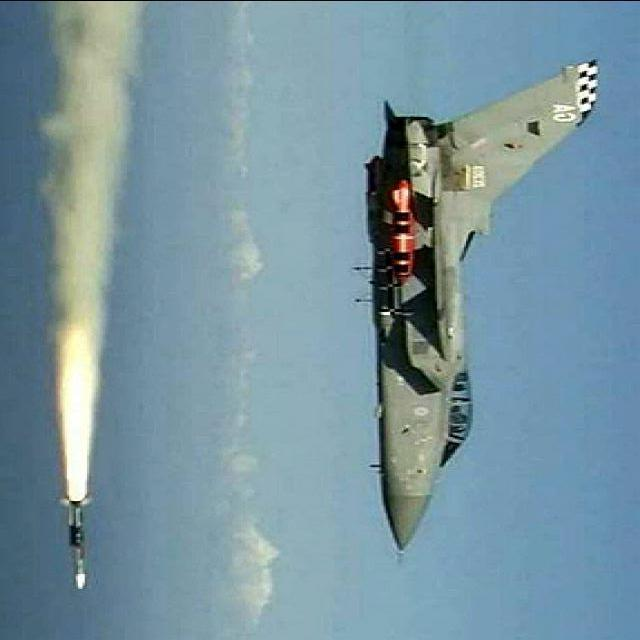missile: (62, 487, 98, 599), (390, 174, 420, 277)
